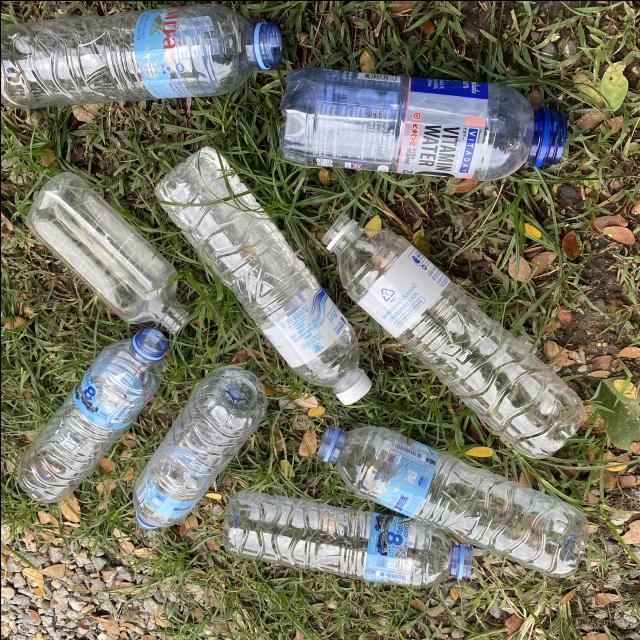plastik: (322, 214, 583, 457), (154, 146, 370, 404), (318, 425, 587, 576), (278, 66, 566, 180), (0, 2, 281, 106), (17, 326, 168, 501), (25, 172, 188, 333), (224, 492, 471, 588), (132, 365, 266, 528)
